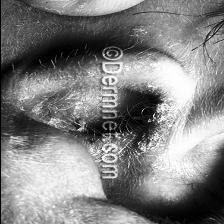Non-Cancerous Skin Condition: (18, 88, 92, 134)
